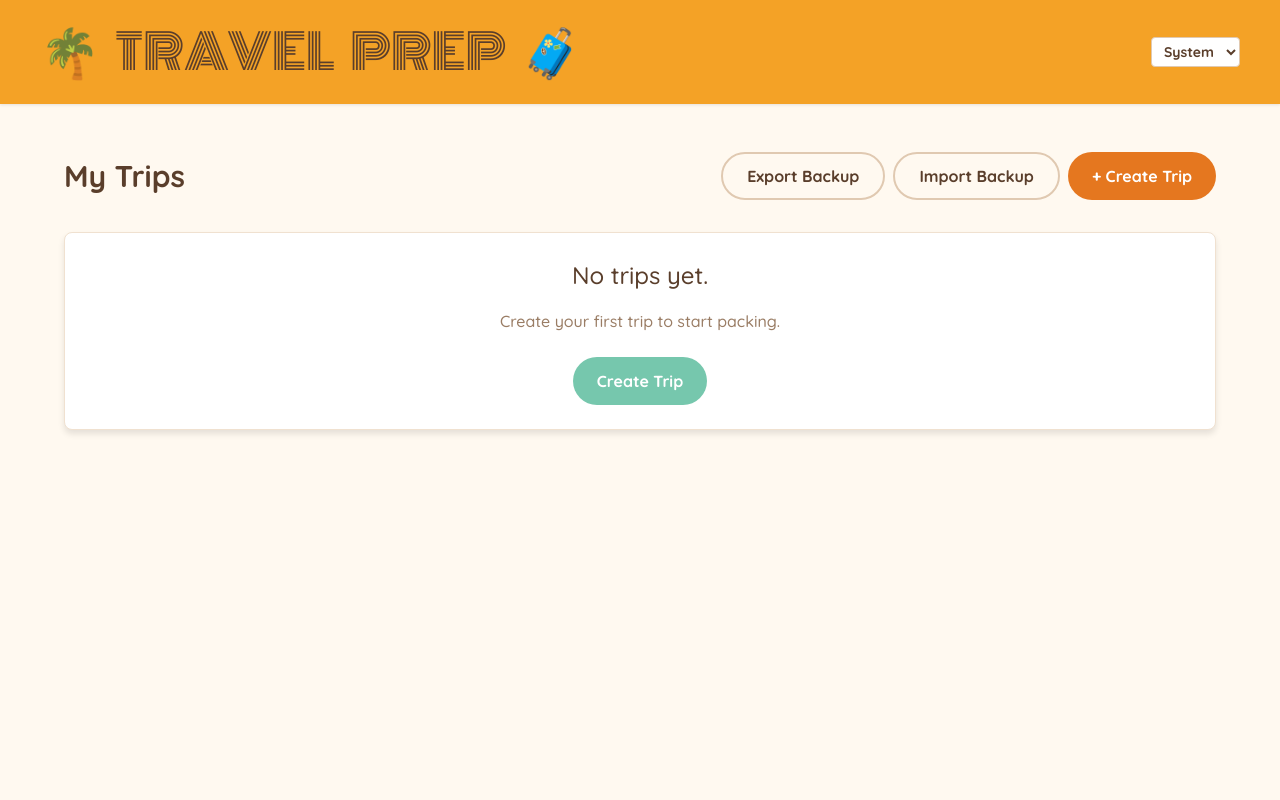
Test: App Integration Tests › allows returning to dashboard and creating multiple trips
Click the link "+ Create Trip" at (1142, 176), box left=1068, top=152, right=1216, bottom=200
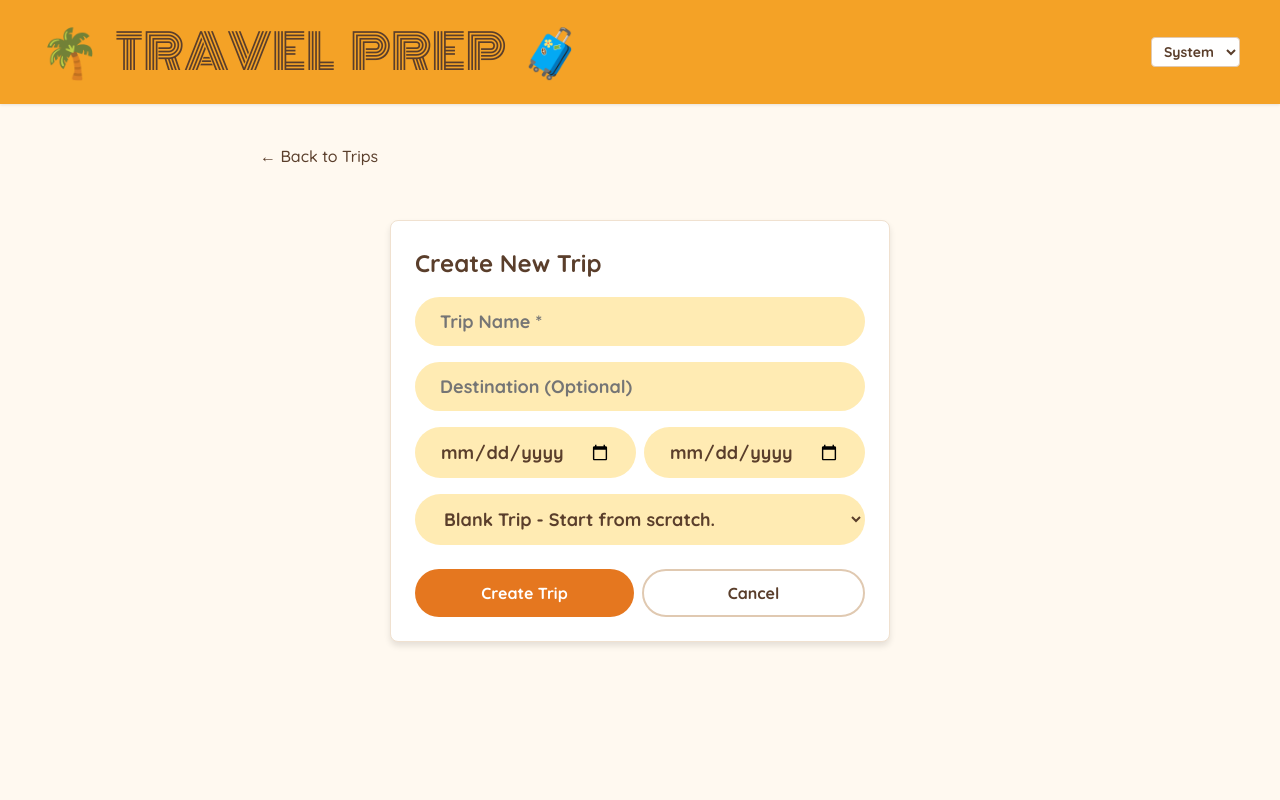
Type "Goa Trip" into the field labelled "Trip Name" at (640, 322), box left=415, top=297, right=865, bottom=346
Click the button "Create Trip" at (524, 593), box left=415, top=569, right=634, bottom=617
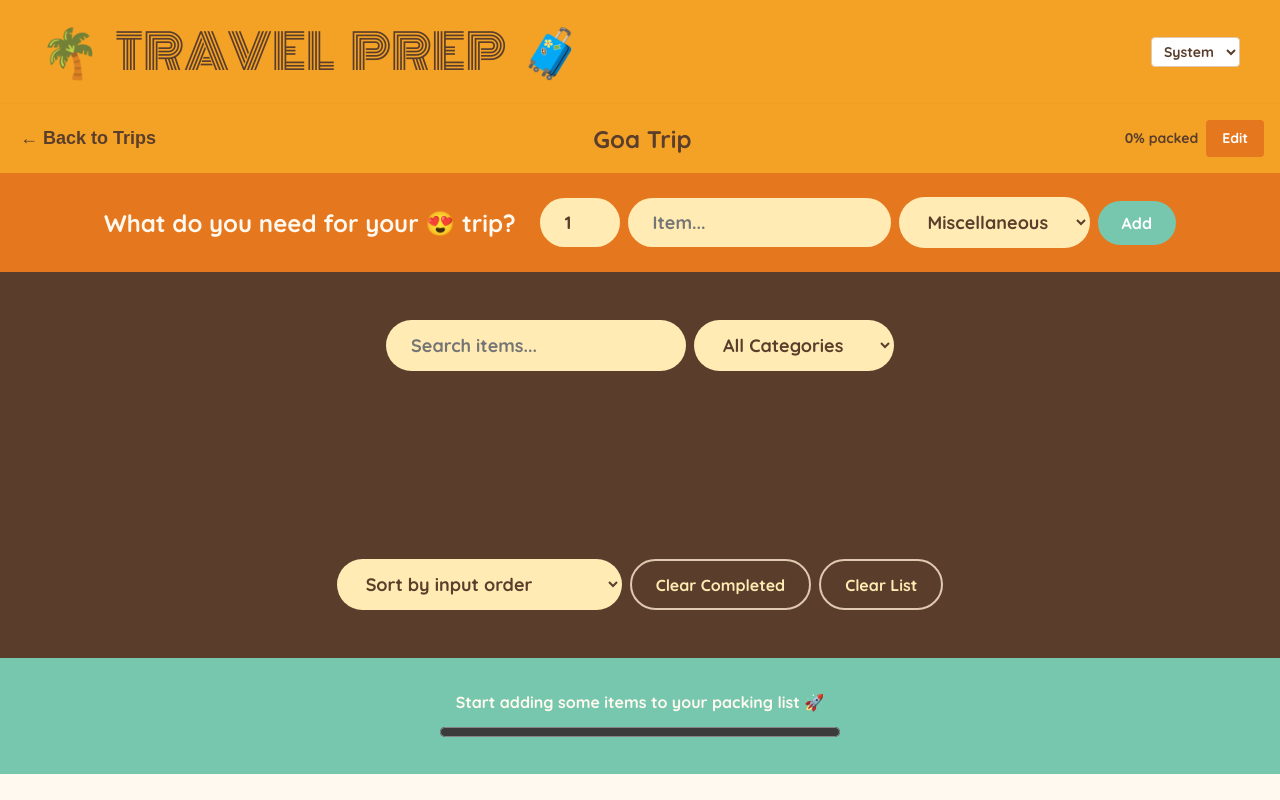
Click the button "← Back to Trips" at (88, 138), box left=16, top=124, right=160, bottom=153
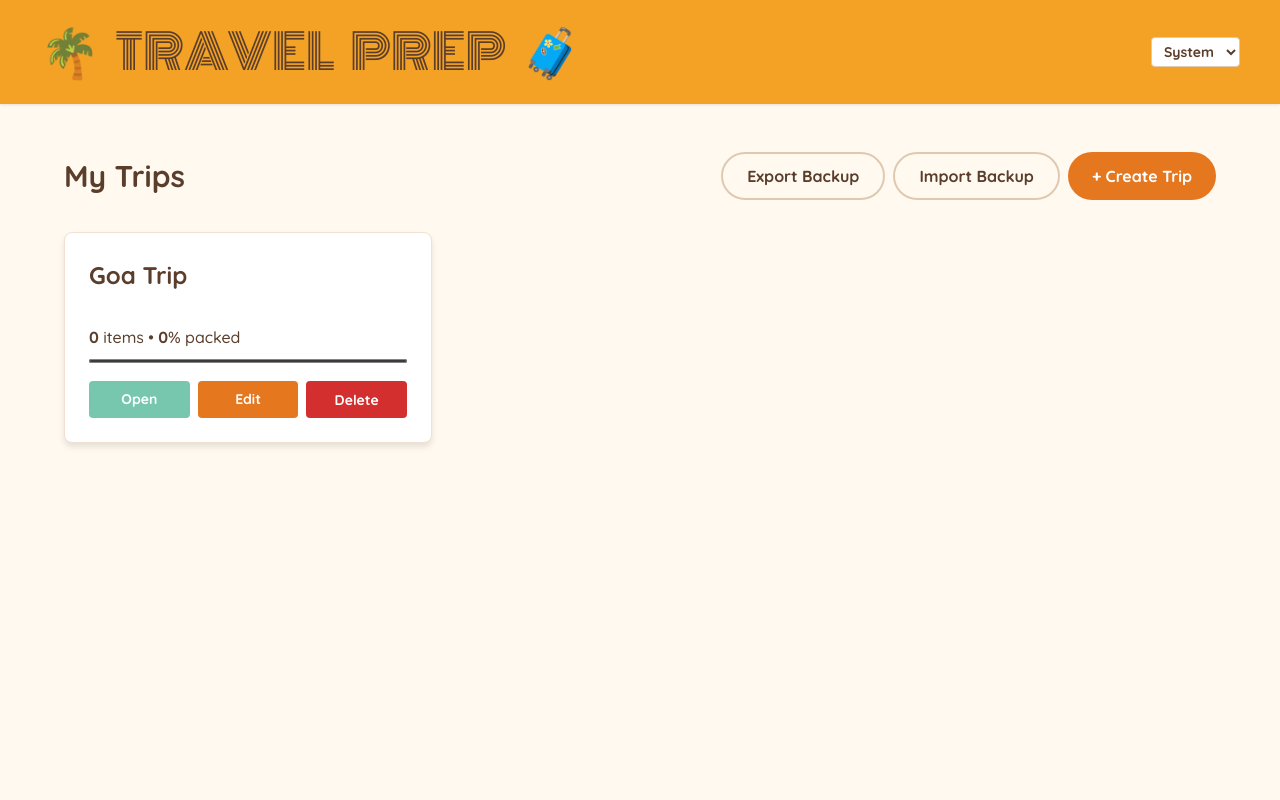
Expected: the heading "Goa Trip" is shown, left=89, top=260, right=187, bottom=290
Click the link "+ Create Trip" at (1142, 176), box left=1068, top=152, right=1216, bottom=200
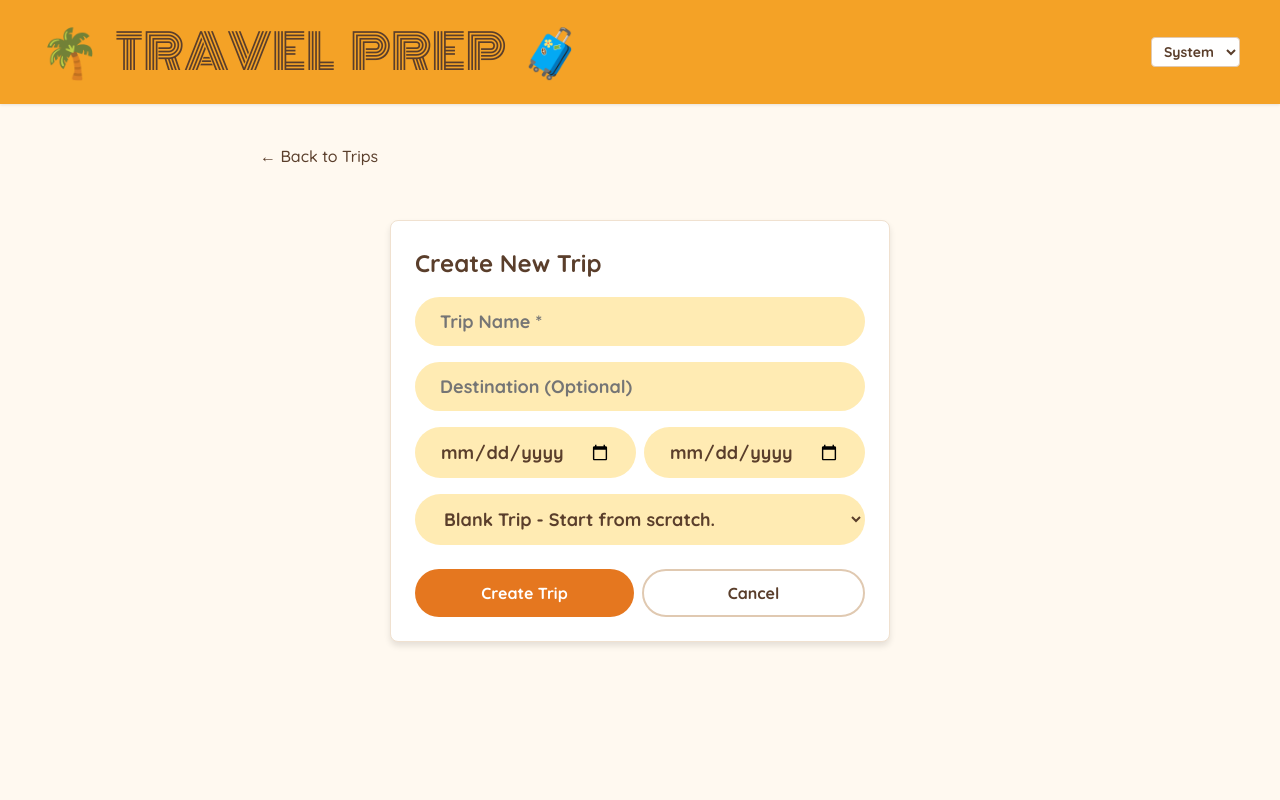
Type "Manali Trip" into the field labelled "Trip Name" at (640, 322), box left=415, top=297, right=865, bottom=346
Click the button "Create Trip" at (524, 593), box left=415, top=569, right=634, bottom=617
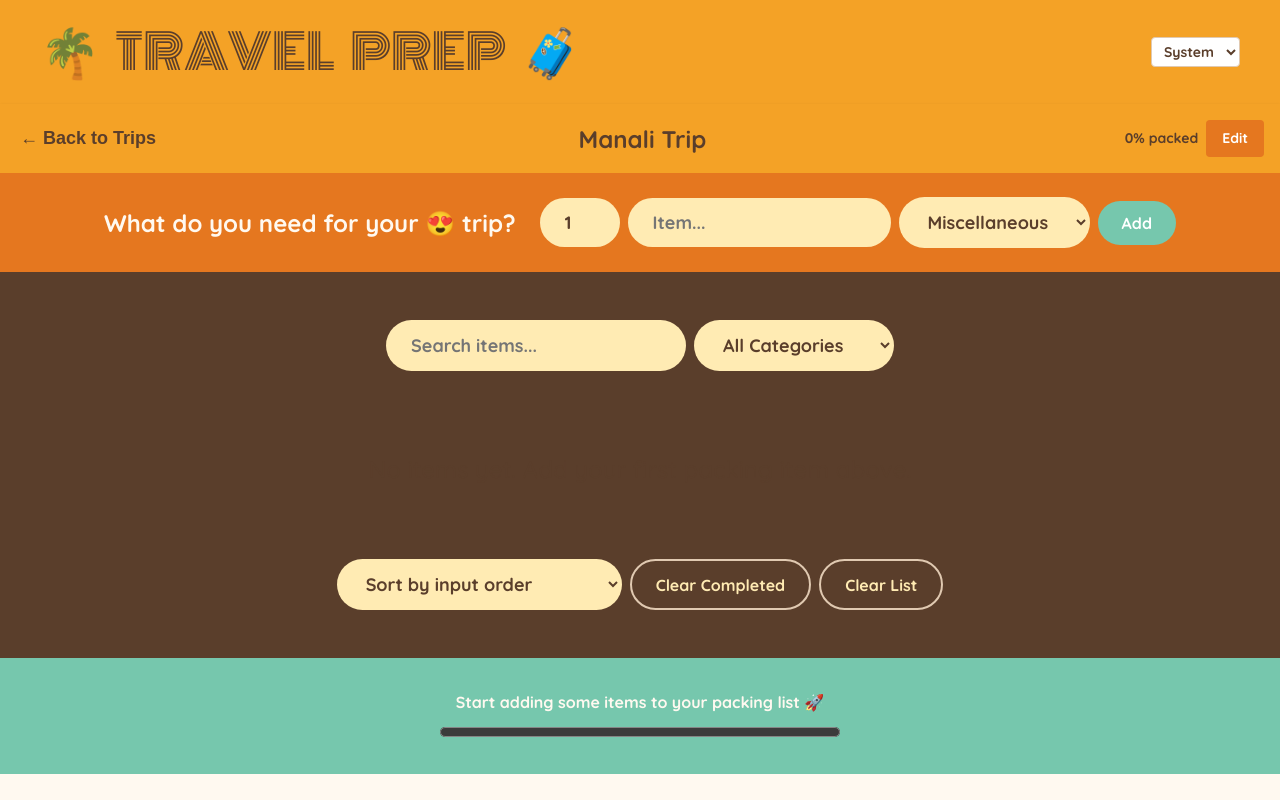
Expected: the heading "Manali Trip" is shown, left=578, top=124, right=706, bottom=154
Click the button "← Back to Trips" at (88, 138), box left=16, top=124, right=160, bottom=153
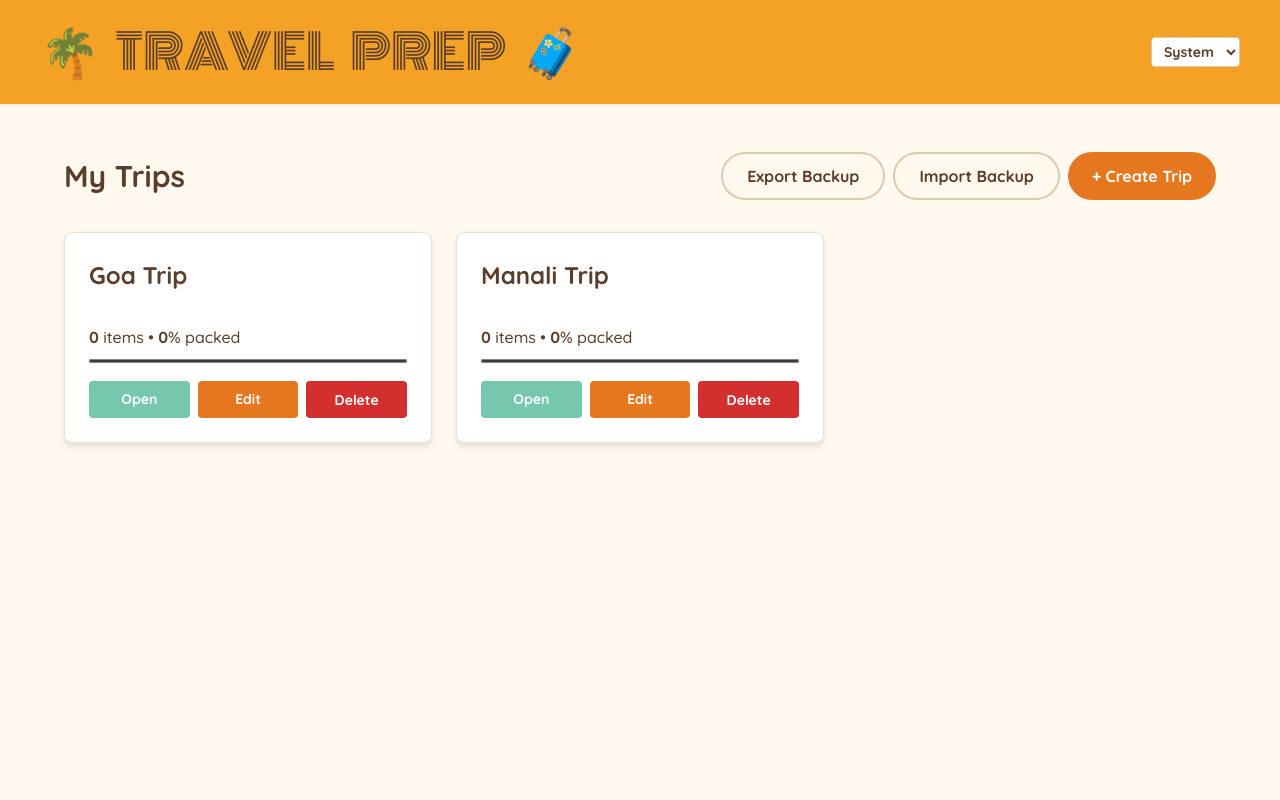
Expected: the heading "Manali Trip" is shown, left=481, top=260, right=609, bottom=290
Expected: the heading "Goa Trip" is shown, left=89, top=260, right=187, bottom=290
